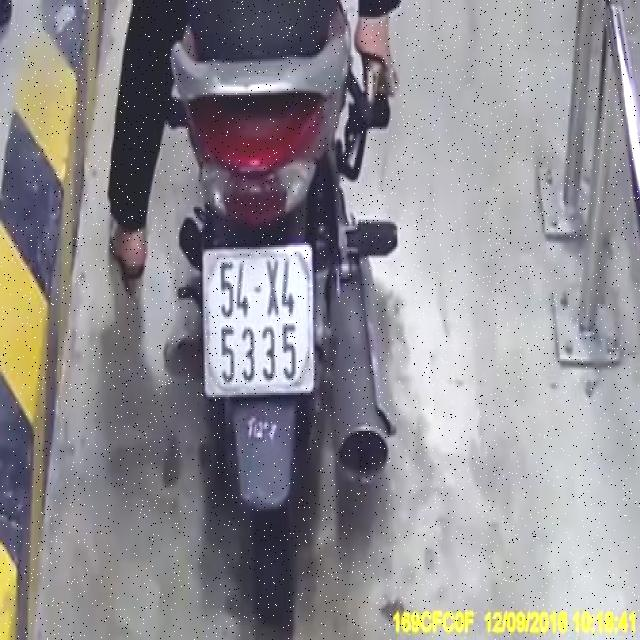3: (257, 321, 282, 386), (234, 323, 256, 379)
4: (278, 250, 298, 316), (237, 256, 250, 318)
5: (281, 316, 302, 384), (218, 320, 236, 386), (218, 260, 237, 320)
X: (264, 256, 279, 318)
